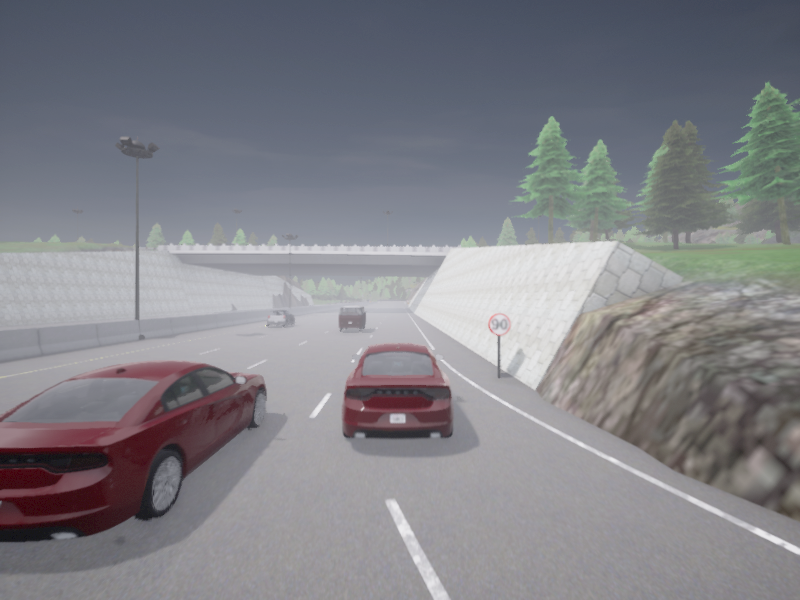vehicle: (0, 361, 265, 542), (341, 342, 453, 438), (339, 305, 366, 331), (267, 310, 294, 326)
